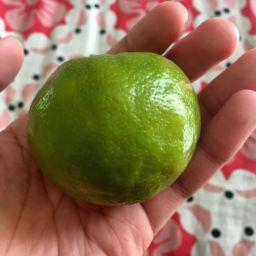Ripe: (25, 51, 199, 204)
